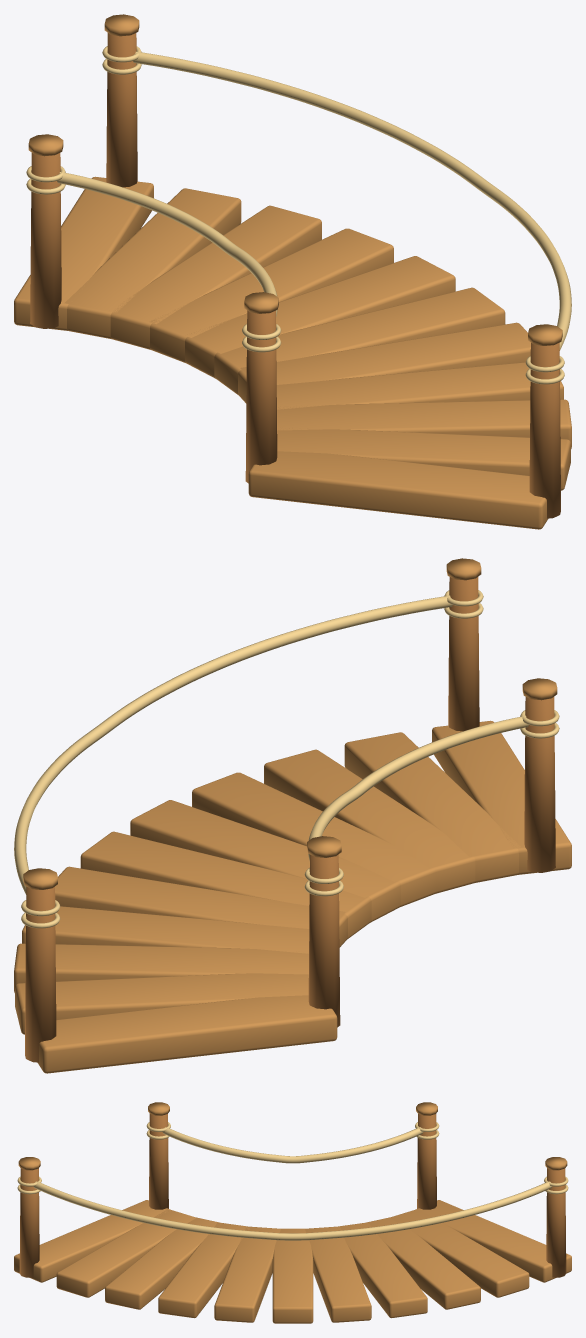
File: bridge_curved.glb
The picture shows the model from 3 angles, top to bottom: view 1: azimuth 30°, elevation 25°; view 2: azimuth 150°, elevation 25°; view 3: azimuth 270°, elevation 25°; orthographic projection. The views are drawn at different scales.
Visible parts, largest first — view 1: bridge_curved; view 2: bridge_curved; view 3: bridge_curved.
Boxes of the visible parts, left/top/right/bottom form: bridge_curved: left=14, top=14, right=571, bottom=529; bridge_curved: left=14, top=558, right=571, bottom=1073; bridge_curved: left=14, top=1102, right=571, bottom=1323.
Size of the model in its own units: 1.83 by 0.9072 by 3.97.
